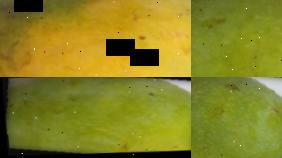Ripe: (0, 0, 191, 77)
Unripe: (0, 77, 191, 158), (191, 77, 282, 158), (191, 0, 282, 77)
